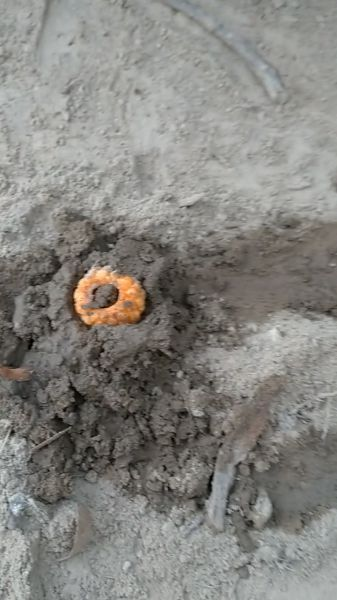eggs: (66, 261, 149, 329)
